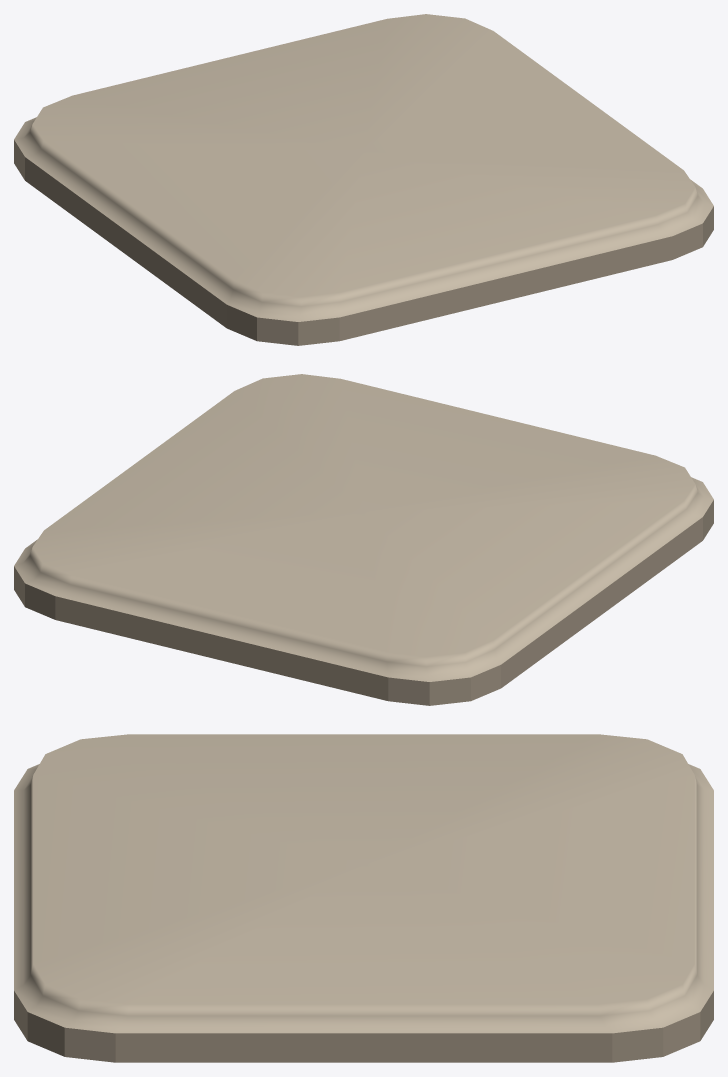
File: gf_paver_03.glb
3 renders of one model, top to bottom at view 1: azimuth 30°, elevation 25°; view 2: azimuth 150°, elevation 25°; view 3: azimuth 270°, elevation 25°, orthographic. The views are drawn at different scales.
Visible parts, largest first — view 1: gf_paver_03; view 2: gf_paver_03; view 3: gf_paver_03.
Boxes of the visible parts, x1,y1,x2,y2 form: gf_paver_03: (14,14,713,345); gf_paver_03: (14,374,713,705); gf_paver_03: (14,734,713,1062).
Size of the model in its own units: 0.6311 by 0.0567 by 0.6529.
